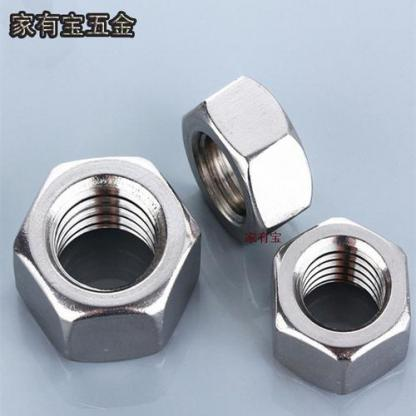FOD: (9, 154, 208, 365), (269, 211, 415, 398), (179, 71, 314, 245)
